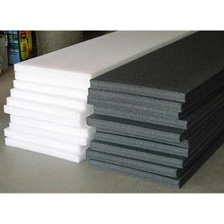foam_box: (0, 30, 196, 166), (81, 30, 224, 190)
